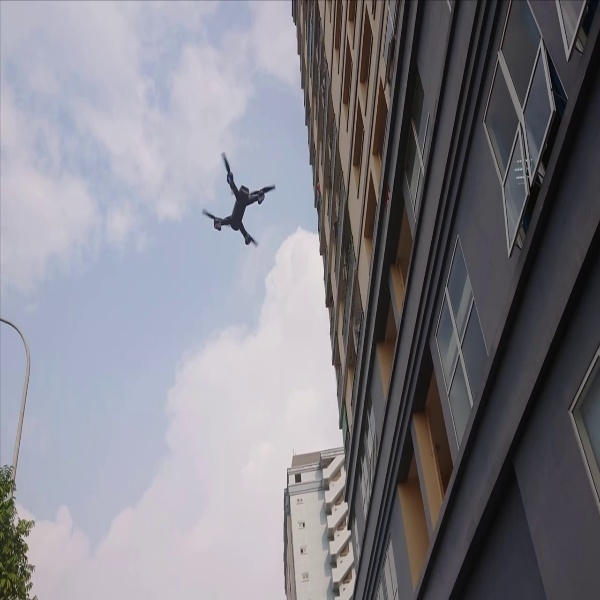drone: (200, 146, 277, 260)
